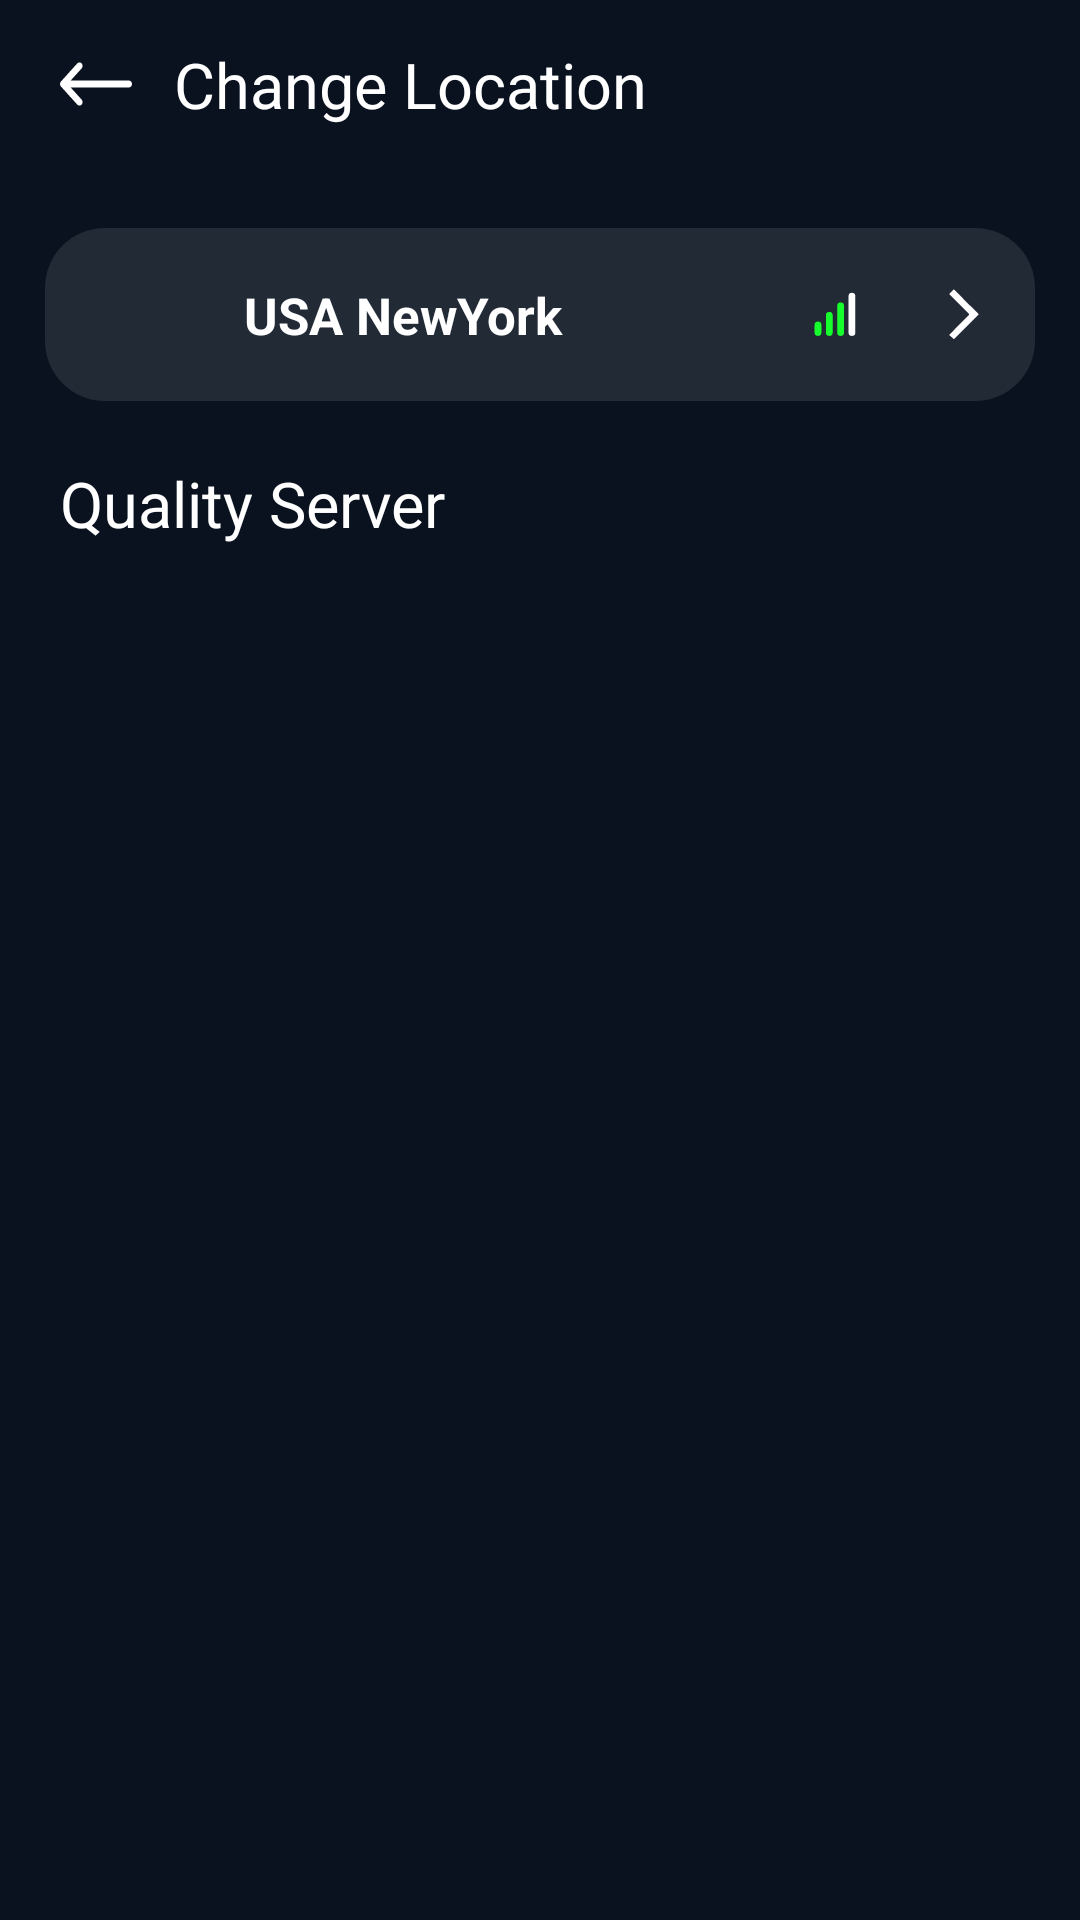

Icon bounding boxes for this 1080px x 1920px phone screenshot, format (x1, y1, x2, y2):
back: (60, 62, 132, 106)
right: (949, 289, 979, 339)
